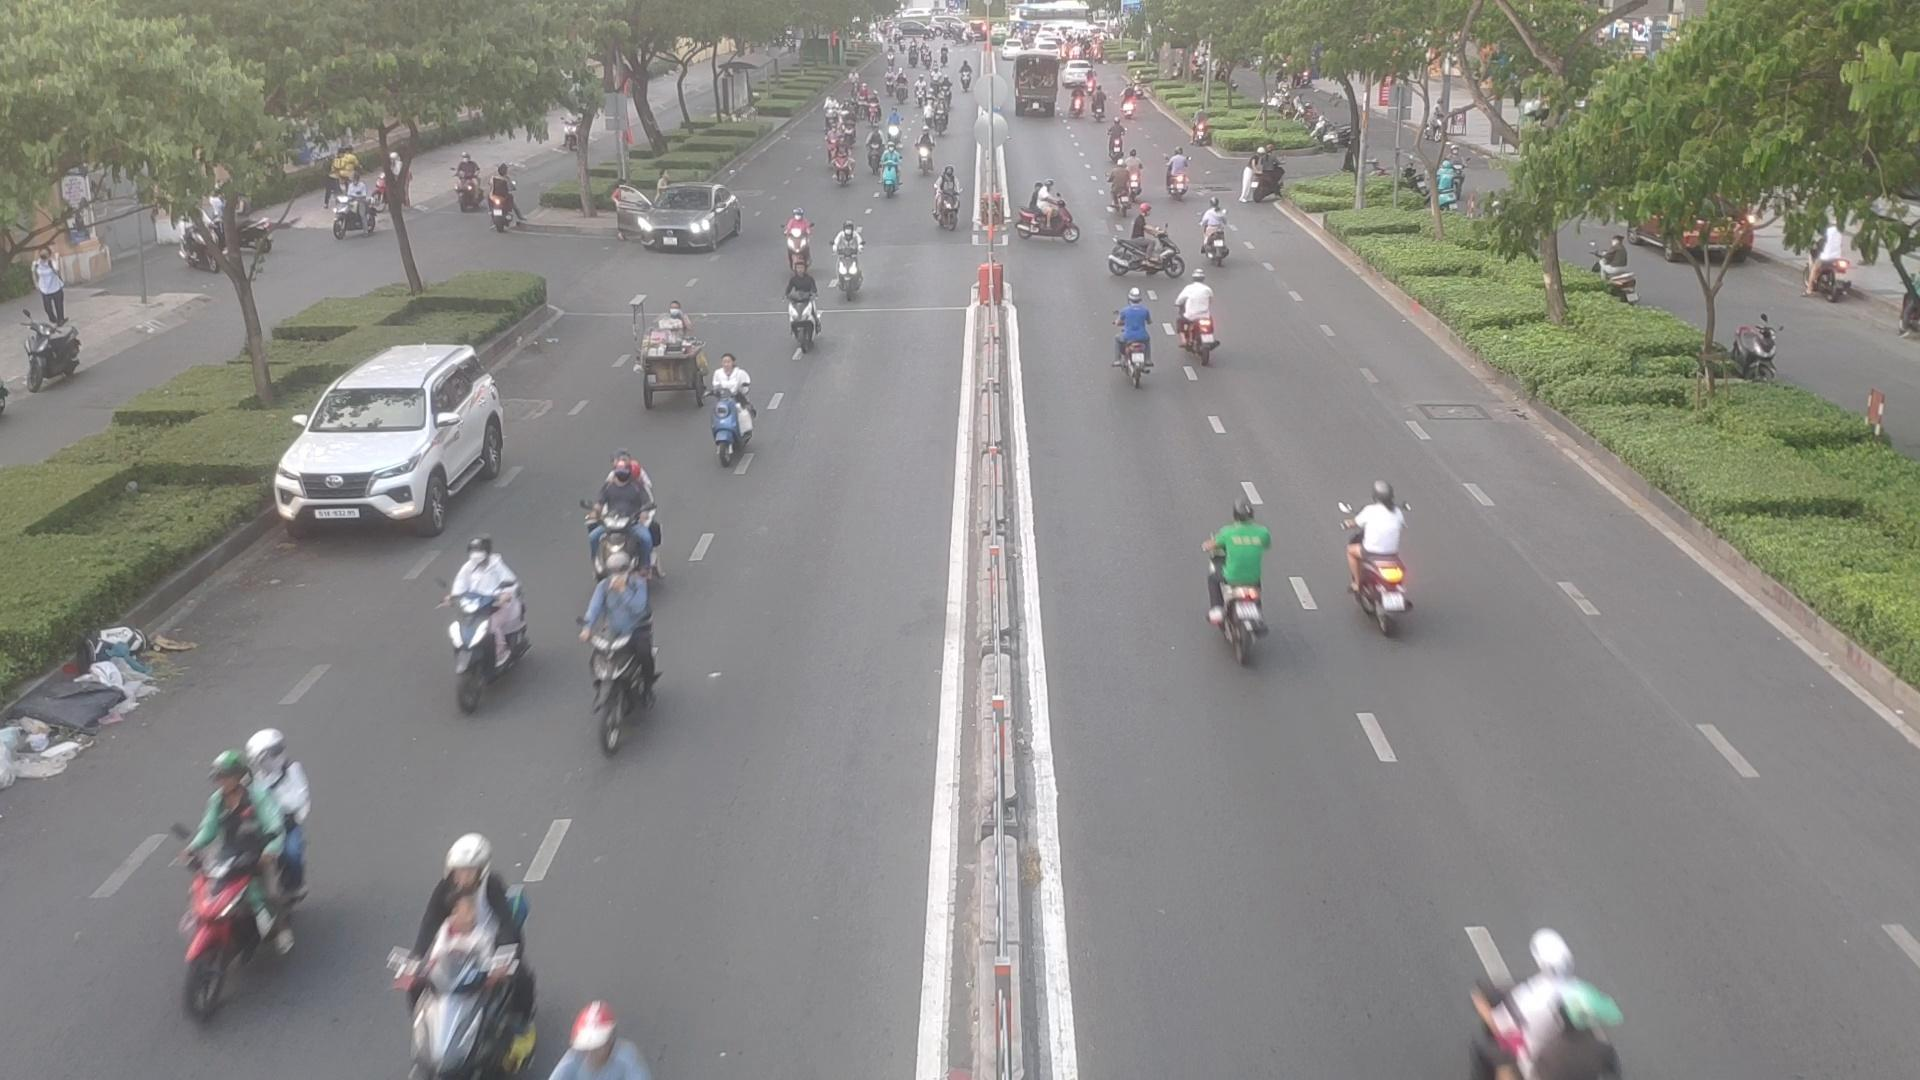car: (269, 343, 512, 534), (615, 187, 750, 258)
motorbike: (171, 711, 303, 1021), (413, 818, 517, 1080), (1477, 926, 1627, 1080), (584, 550, 657, 753), (1346, 471, 1414, 632), (443, 585, 530, 709), (1207, 491, 1267, 663), (599, 450, 663, 550), (707, 356, 764, 450), (783, 264, 831, 361), (1117, 216, 1178, 289), (1112, 289, 1156, 386), (1019, 191, 1079, 244), (1179, 281, 1218, 356), (779, 196, 818, 261), (934, 173, 969, 236), (1199, 210, 1234, 266), (839, 229, 862, 297), (1101, 160, 1137, 203), (873, 152, 905, 200), (825, 142, 856, 190)
